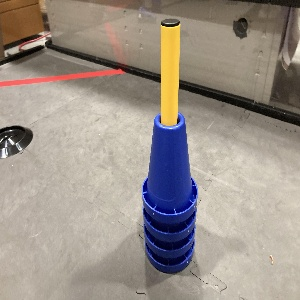Blue_4: (141, 119, 196, 273)
